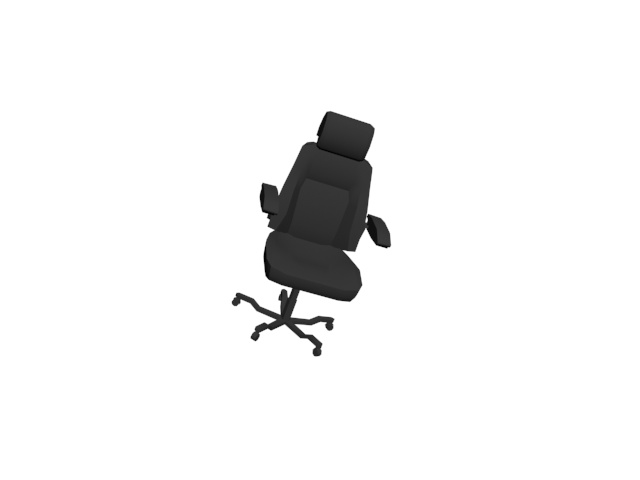desk_chair: (225, 105, 392, 360)
